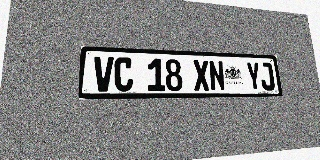1: (147, 58, 165, 91)
8: (165, 59, 183, 91)
C: (114, 57, 133, 91)
J: (259, 62, 275, 90)
N: (208, 60, 225, 91)
V: (93, 56, 114, 91)
X: (193, 60, 210, 91)
Y: (245, 62, 262, 90)
